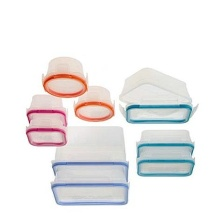plastic_box: (43, 123, 136, 213), (114, 63, 203, 129), (130, 123, 199, 182), (19, 91, 72, 152), (35, 52, 92, 101), (68, 82, 117, 127)
